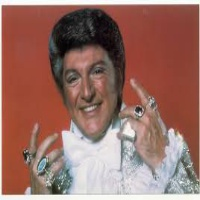ring: (34, 147, 63, 175), (128, 117, 145, 131)
